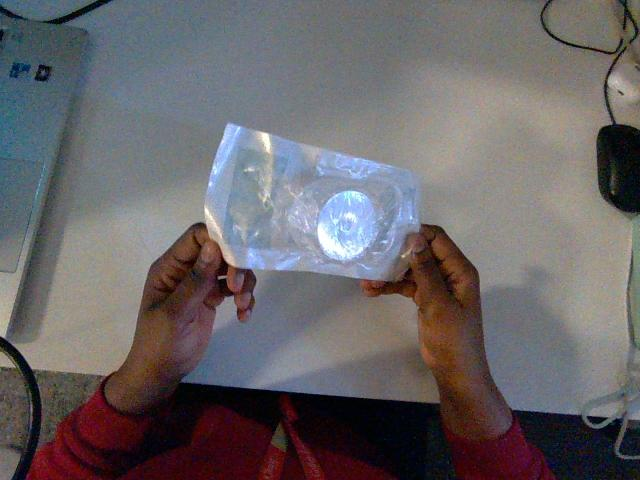gallipot: (205, 124, 420, 280)
